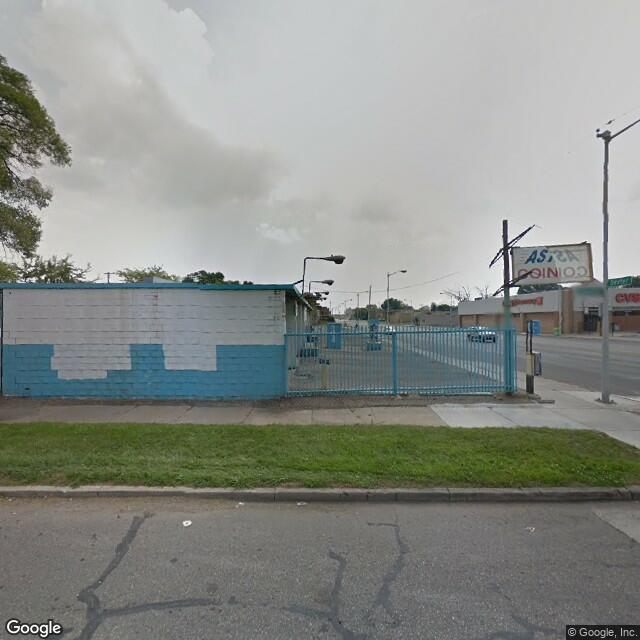litter: (291, 499, 318, 506), (180, 518, 198, 528), (526, 523, 540, 533), (236, 498, 245, 510), (5, 494, 14, 503)
